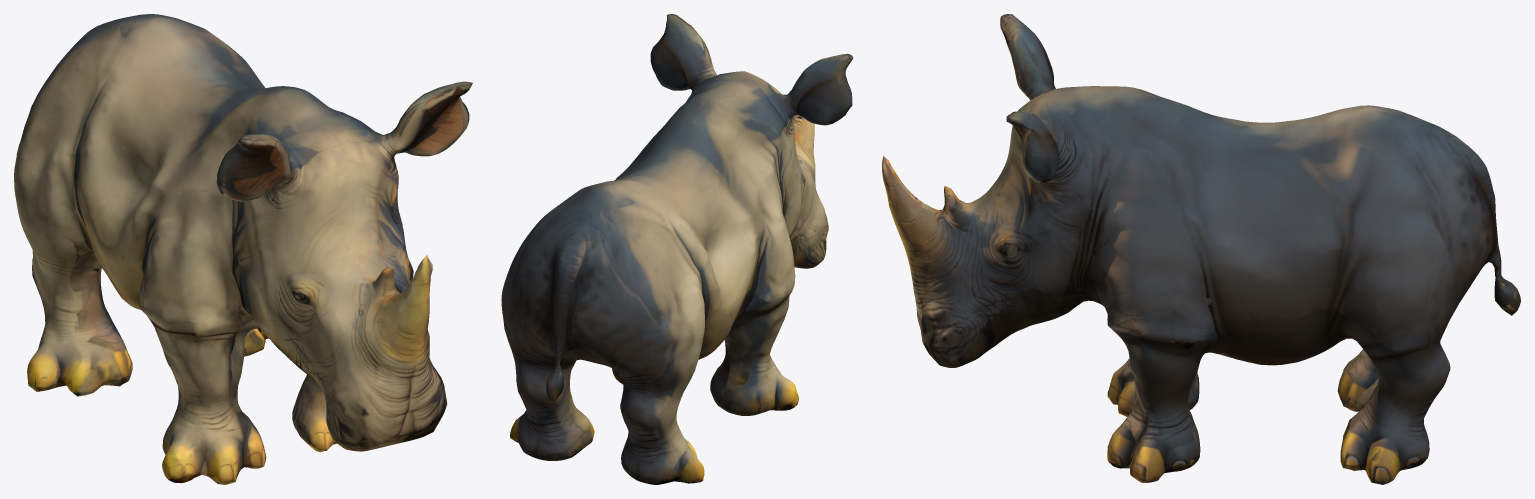
The model's file is rhino.glb.
3 views of the same model, side by side, from view 1: azimuth 30°, elevation 25°; view 2: azimuth 150°, elevation 25°; view 3: azimuth 270°, elevation 25° (orthographic). The views are drawn at different scales.
Bounding box in the file's own units: 0.508 × 0.7754 × 1.2.
1 material, 1 textured.
